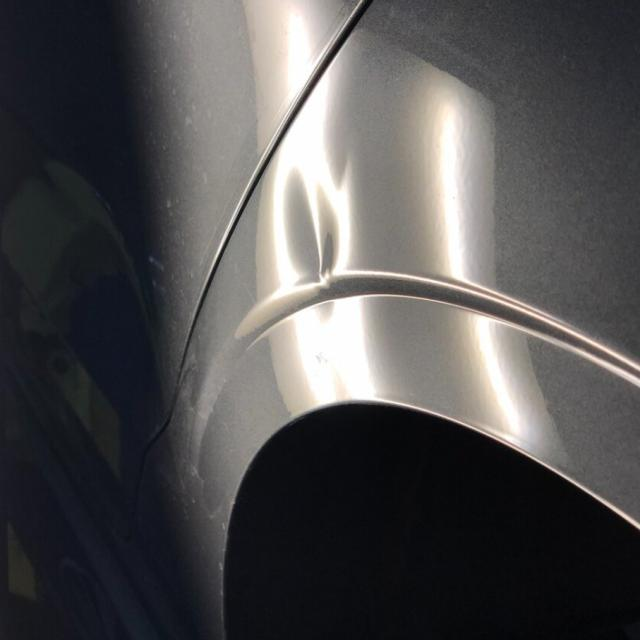dents: (274, 161, 392, 309)
